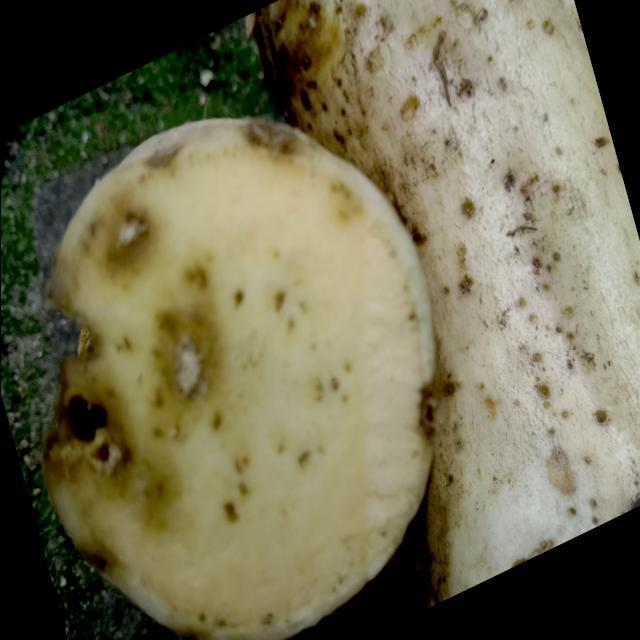Sick Sweet Potato_Tuber Rot: (42, 118, 434, 638)
